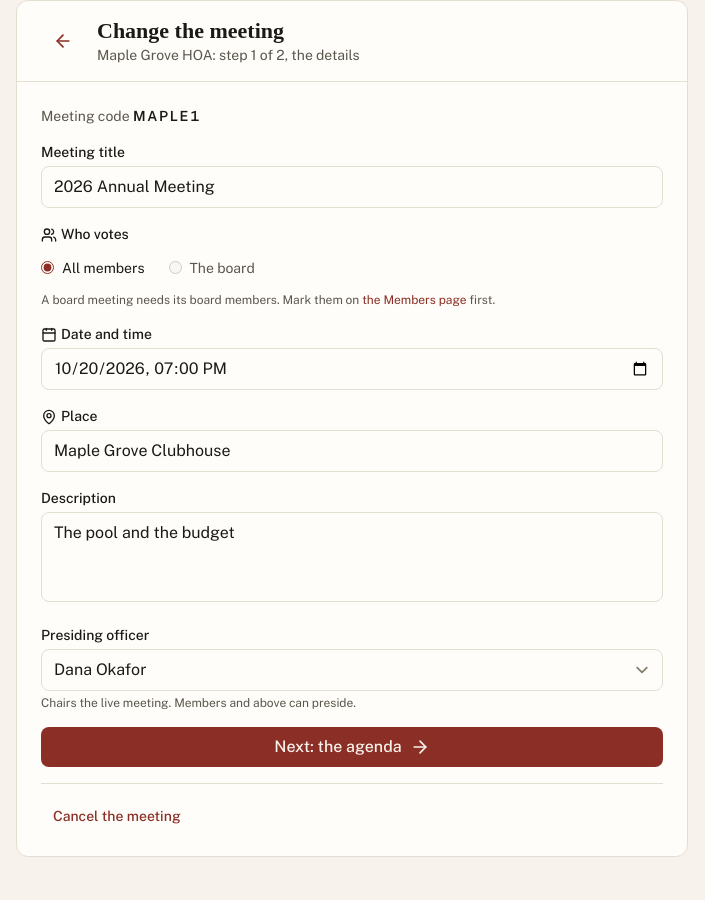
it: MeetingScheduler, changing a scheduled meeting › shows the server's message when the meeting can't be canceled
Expected: the field showing "2026 Annual Meeting" is shown, [41,166,663,208]
Click the button "Cancel the meeting": (117, 816) [41,800,193,832]
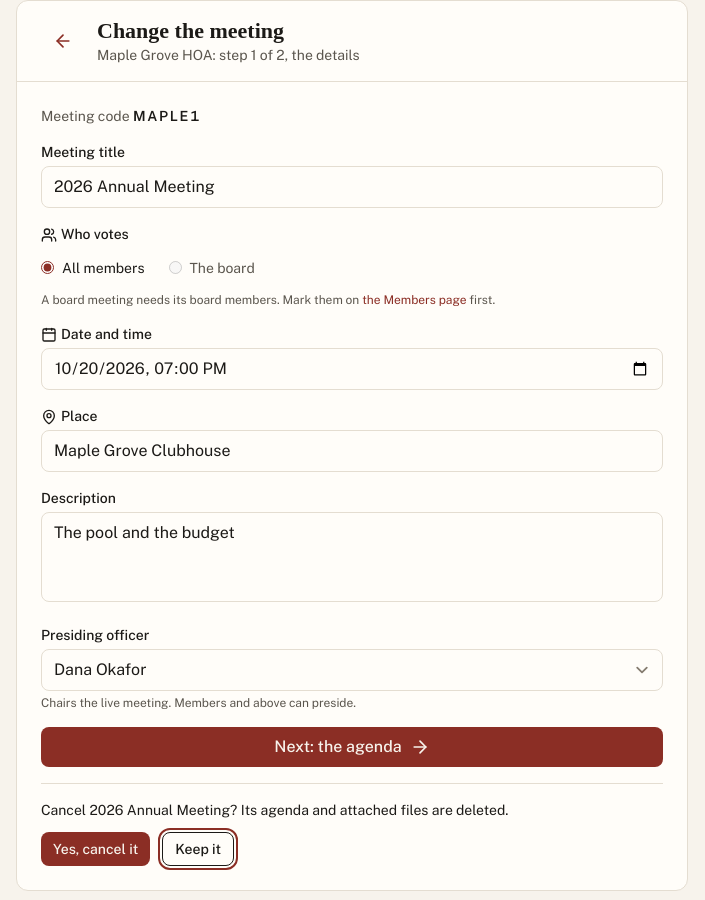
Click the button "Yes, cancel it": (96, 848) [41,832,150,866]
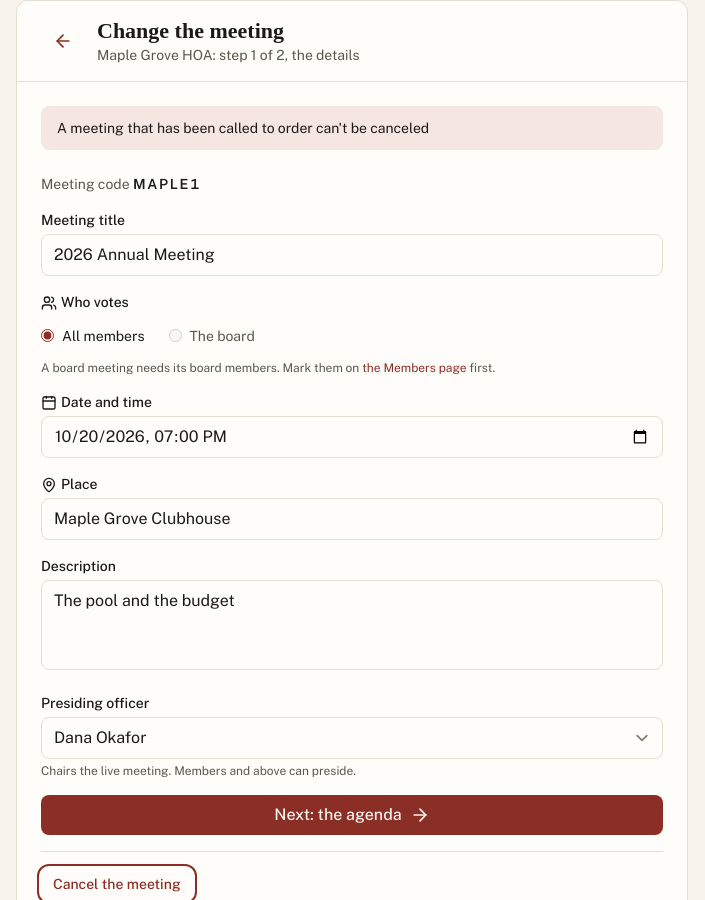
Expected: the message reads "A meeting that has been called to order can't be canceled", [57,120,429,136]
